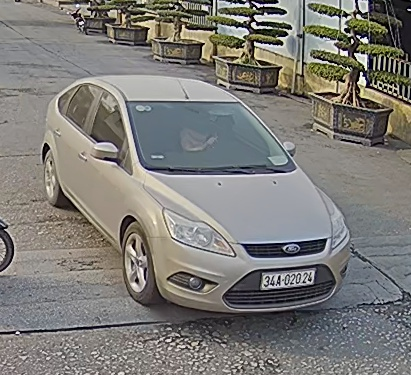vehicle plate: (257, 270, 322, 290)
